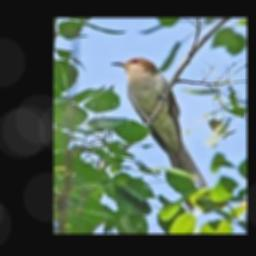Cuckoo: (110, 57, 208, 210)
